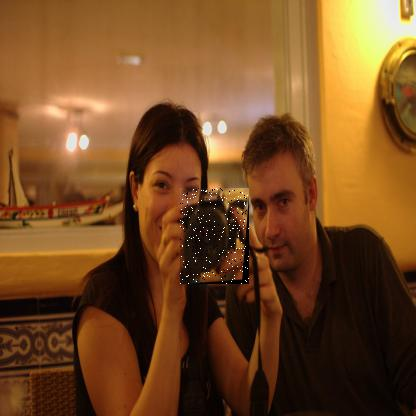Camera: (181, 189, 251, 286)
